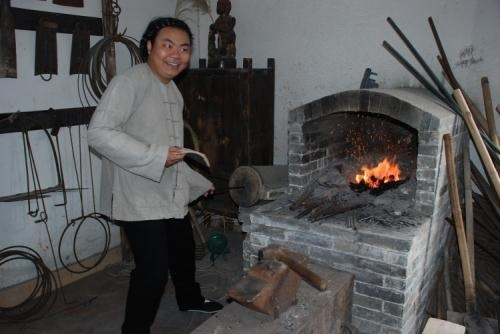fire: (351, 154, 403, 188)
